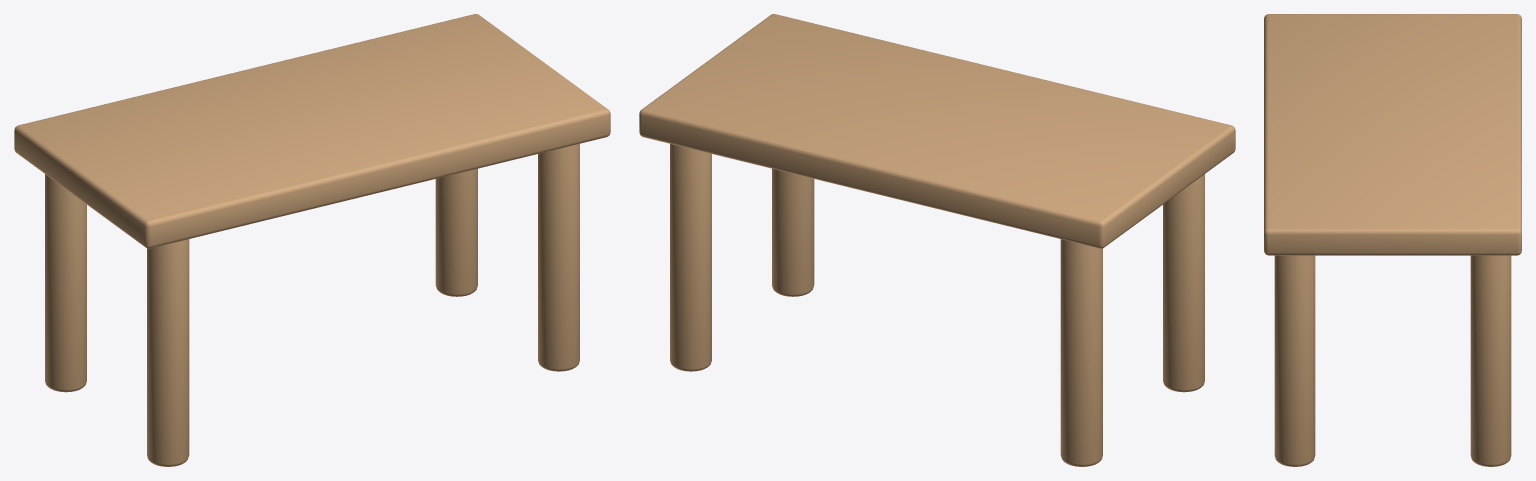
File: desk-single.glb
The picture shows the model from 3 angles, left to right: view 1: azimuth 30°, elevation 25°; view 2: azimuth 150°, elevation 25°; view 3: azimuth 270°, elevation 25°; orthographic projection. The views are drawn at different scales.
Parts seen in each view (by area): view 1: top, leg-1, leg-3, leg-2, leg-4; view 2: top, leg-2, leg-4, leg-1, leg-3; view 3: top, leg-3, leg-4.
Boxes of the visible parts, x1,y1,x2,y2 form: top: (14, 14, 610, 248); leg-1: (147, 239, 189, 466); leg-3: (538, 144, 579, 371); leg-2: (45, 174, 86, 392); leg-4: (435, 168, 477, 296); top: (639, 14, 1235, 248); leg-2: (1060, 239, 1102, 466); leg-4: (670, 144, 711, 371); leg-1: (1163, 174, 1204, 392); leg-3: (772, 168, 814, 296); top: (1264, 14, 1521, 255); leg-3: (1274, 255, 1315, 466); leg-4: (1470, 255, 1511, 466).
Size of the model in its own units: 1.4 by 0.7392 by 0.7.
